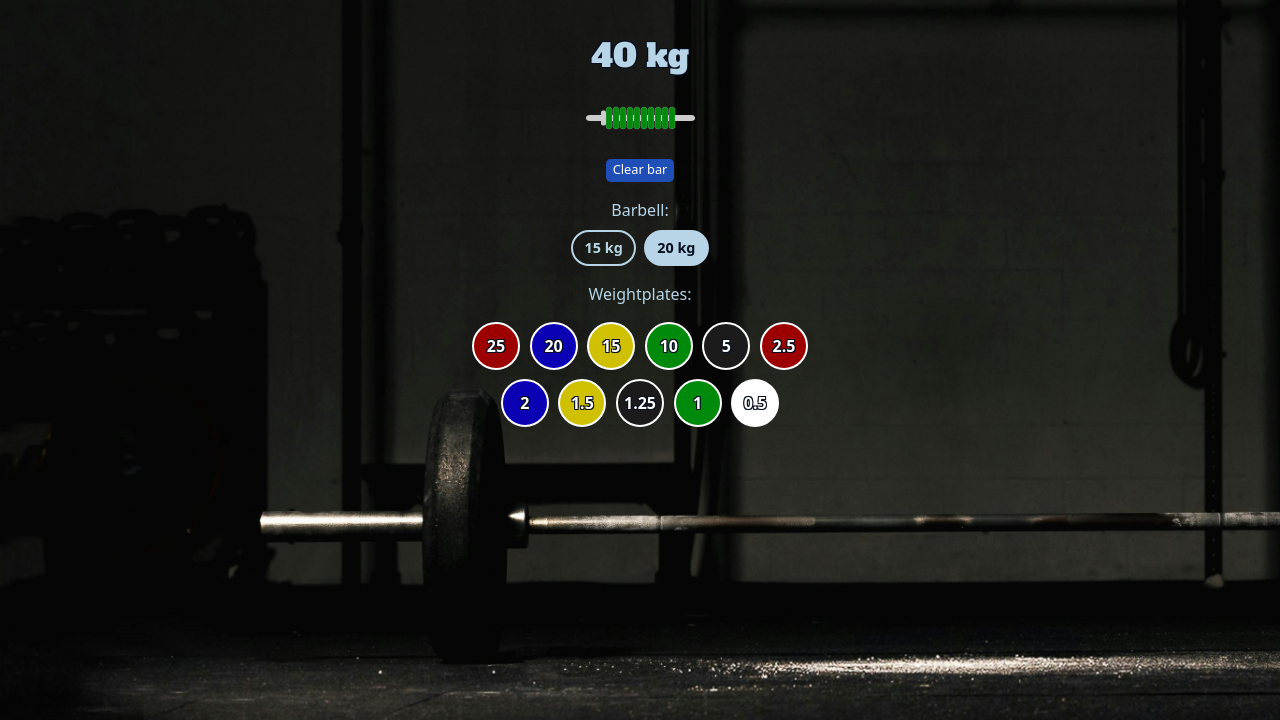
Test: FreeCalc › plate limit › hides the error when the bar is cleared
Click the button named "add 20 kg plate".
click(554, 346)  # box [530,322,578,370]
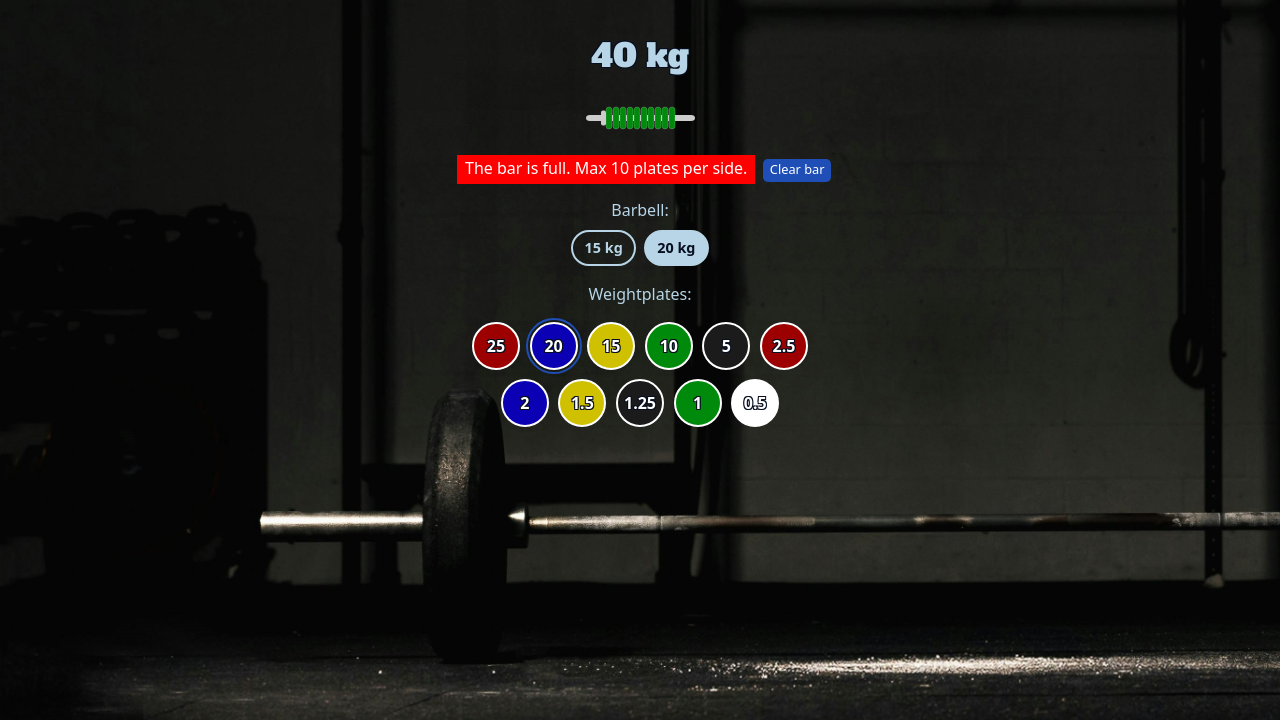
Click the button "Clear bar".
click(797, 171)  # box [763,159,831,182]
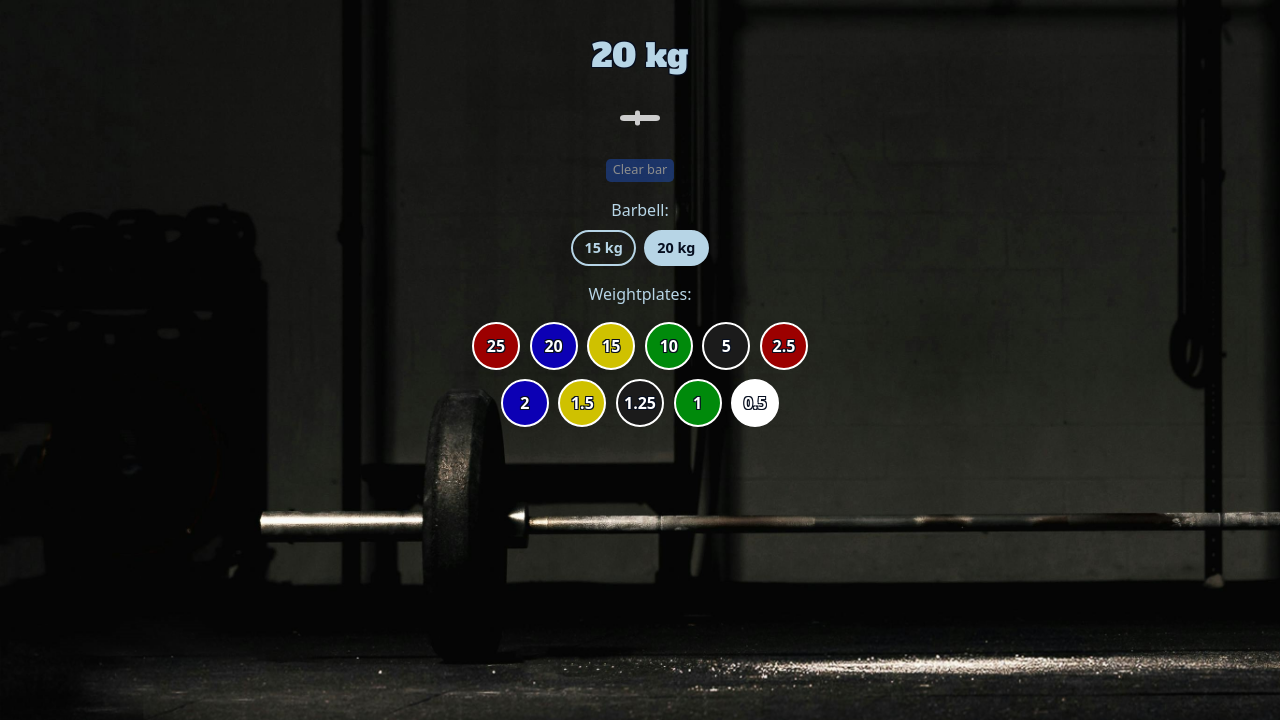
Result: the message "The bar is full. Max 10 plates per side." is gone
